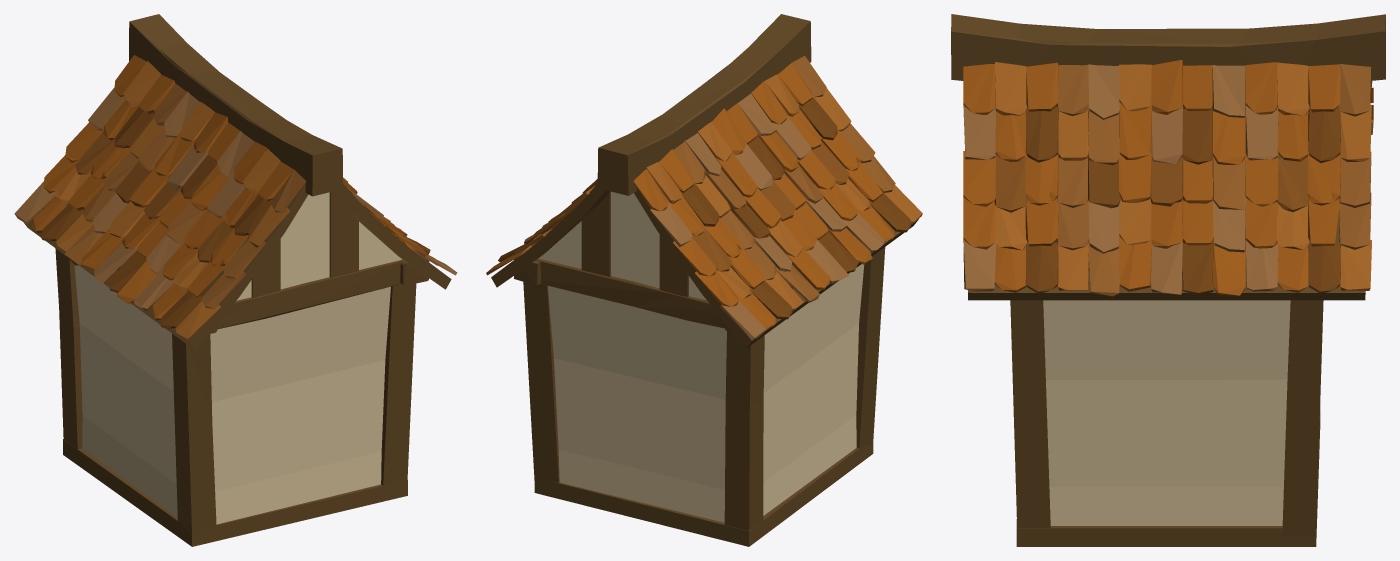
File: SmallHouse_03.fbx
3 renders of one model, left to right at view 1: azimuth 30°, elevation 25°; view 2: azimuth 150°, elevation 25°; view 3: azimuth 270°, elevation 25°, orthographic. The views are drawn at different scales.
Parts seen in each view (by area): view 1: SmallHouse_03; view 2: SmallHouse_03; view 3: SmallHouse_03.
Part boxes in pixels (x1,y1,x2,y2): SmallHouse_03: (14, 14, 457, 546); SmallHouse_03: (486, 14, 922, 546); SmallHouse_03: (951, 14, 1385, 546).
Bounding box in the file's own units: 3.66 × 4.86 × 4.15.
